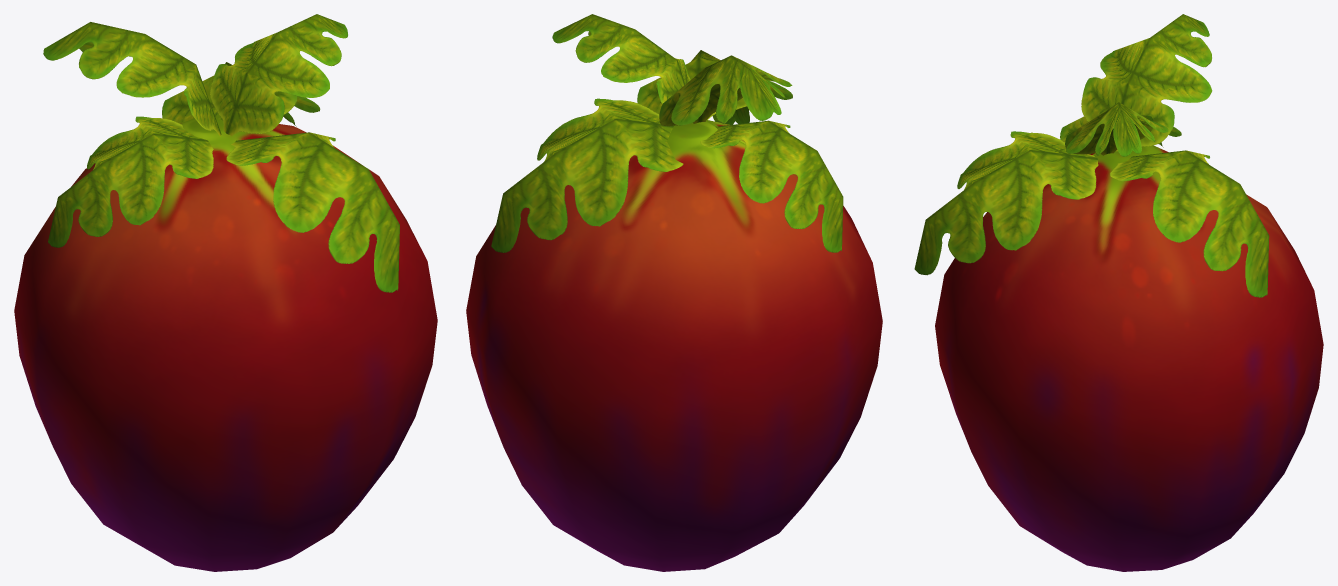
File: fruit.fbx
3 views of the same model, side by side, from view 1: azimuth 30°, elevation 25°; view 2: azimuth 150°, elevation 25°; view 3: azimuth 270°, elevation 25° (orthographic). The views are drawn at different scales.
Parts seen in each view (by area): view 1: Fruit_LOD0; view 2: Fruit_LOD0; view 3: Fruit_LOD0.
Boxes of the visible parts, bbox=[...] form: Fruit_LOD0: bbox=[14, 14, 437, 571]; Fruit_LOD0: bbox=[466, 14, 882, 571]; Fruit_LOD0: bbox=[914, 14, 1323, 571].
Size of what is drawn, in the model's own units: 10.99 by 15.41 by 11.67.
